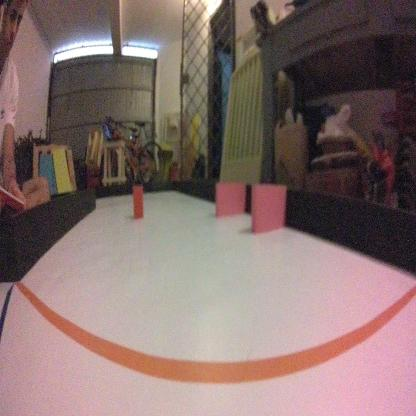magenta: (249, 180, 286, 236), (212, 178, 246, 218)
red: (130, 178, 145, 223)
